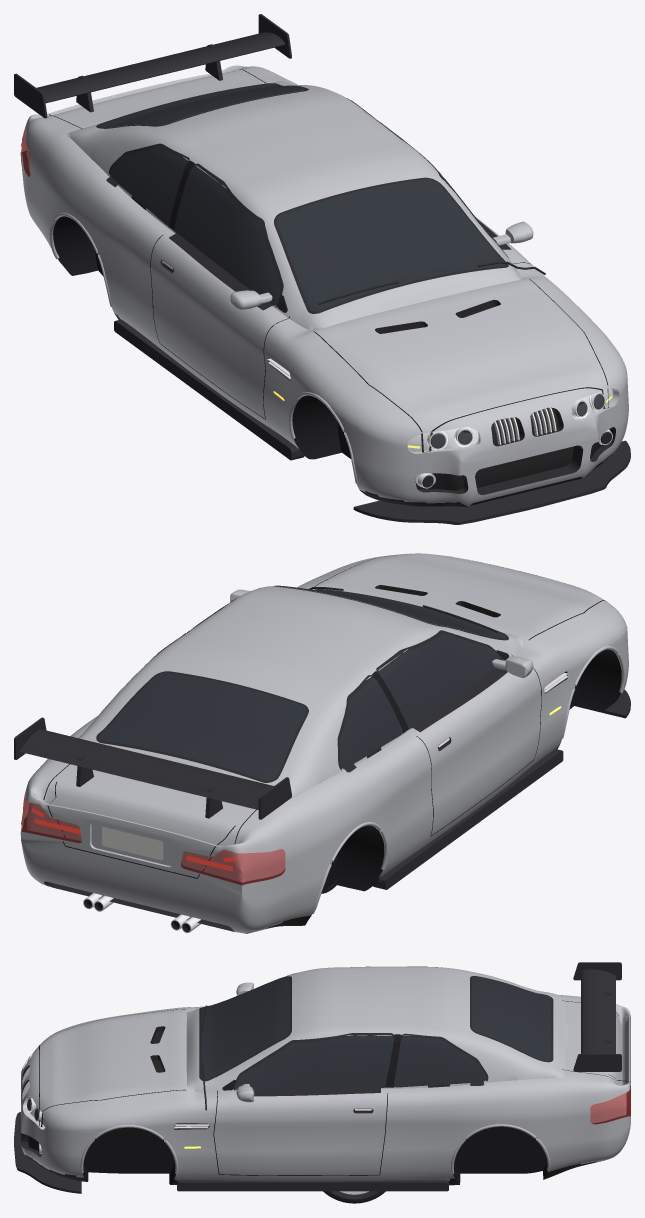
File: nemesis.glb
The picture shows the model from 3 angles, top to bottom: view 1: azimuth 30°, elevation 25°; view 2: azimuth 150°, elevation 25°; view 3: azimuth 270°, elevation 25°; orthographic projection. The views are drawn at different scales.
Visible parts, largest first — view 1: Body, Spoiler; view 2: Body, Spoiler; view 3: Body, Spoiler, TyreR.
Part boxes in pixels (x1,y1,x2,y2): Body: (20, 65, 630, 524); Spoiler: (14, 14, 291, 118); Body: (20, 553, 630, 933); Spoiler: (14, 717, 291, 819); Body: (14, 966, 630, 1193); Spoiler: (573, 962, 621, 1071); TyreR: (323, 1191, 385, 1203).
Bounding box in the file's own units: 1.94 × 1.65 × 4.54.
